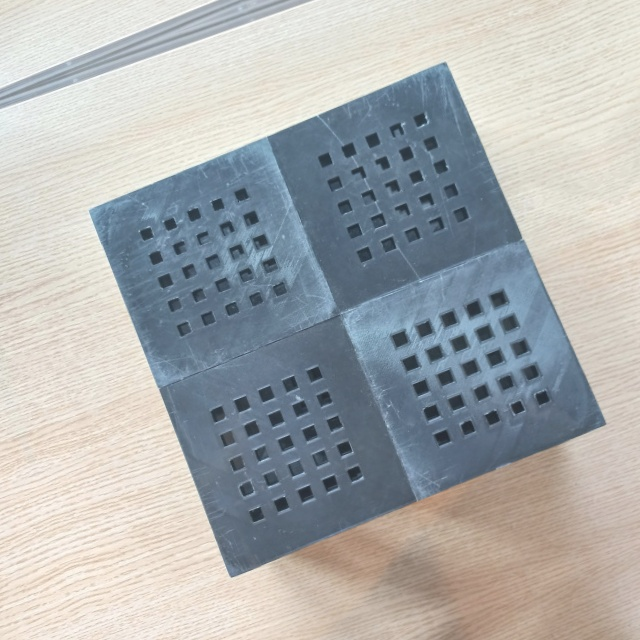pallet: (54, 30, 614, 588)
